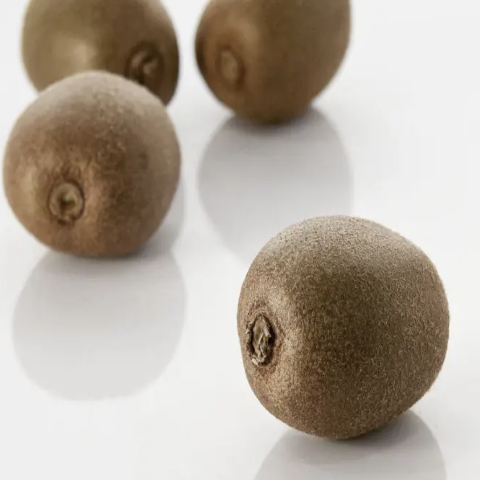kiwi: (217, 199, 469, 452), (0, 69, 206, 275)
